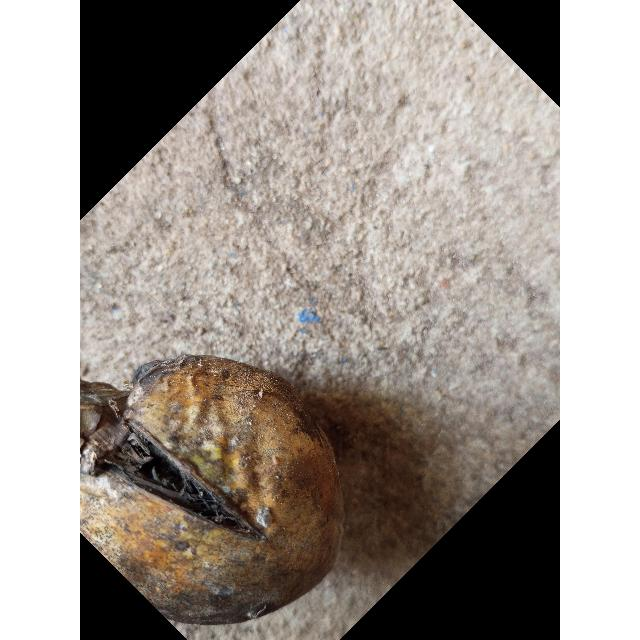damaged: (80, 355, 344, 624)
